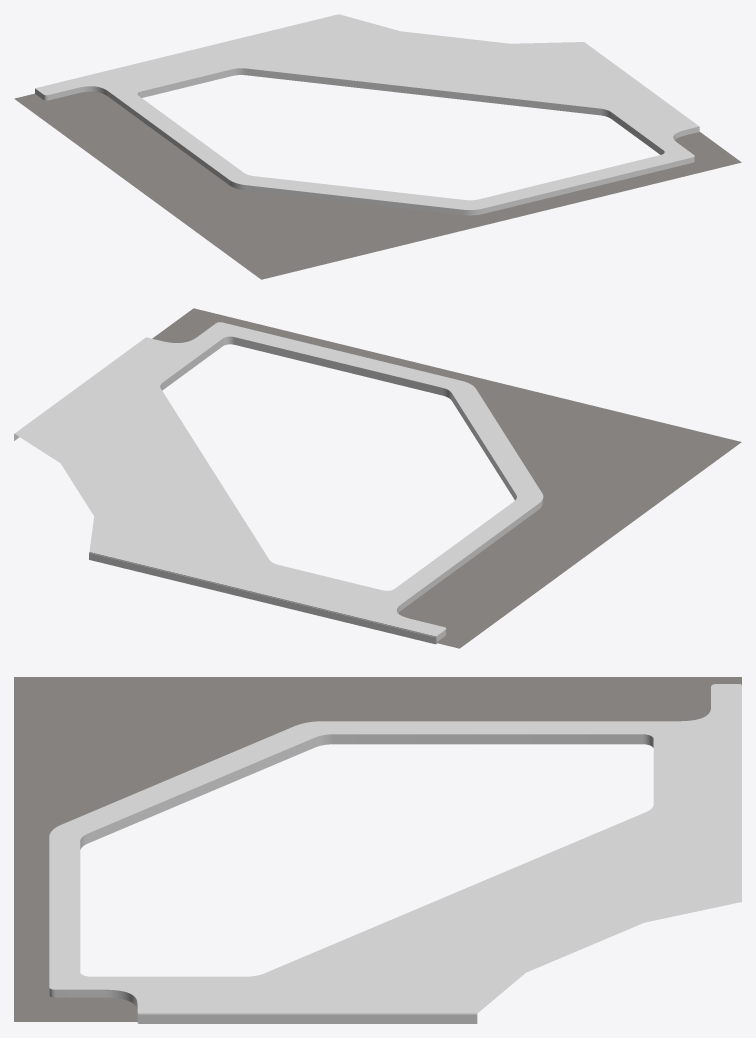
File: MMo_C_001_g_36x32.fbx
3 renders of one model, top to bottom at view 1: azimuth 30°, elevation 25°; view 2: azimuth 150°, elevation 25°; view 3: azimuth 270°, elevation 25°, orthographic. The views are drawn at different scales.
Visible parts, largest first — view 1: MMo_C_001_g_36x32; view 2: MMo_C_001_g_36x32; view 3: MMo_C_001_g_36x32.
Part boxes in pixels (x1=…): MMo_C_001_g_36x32: x1=14, y1=14, x2=741, y2=279; MMo_C_001_g_36x32: x1=14, y1=308, x2=741, y2=648; MMo_C_001_g_36x32: x1=14, y1=677, x2=741, y2=1023.
Size of the model in its own units: 37 by 0.5 by 33.
